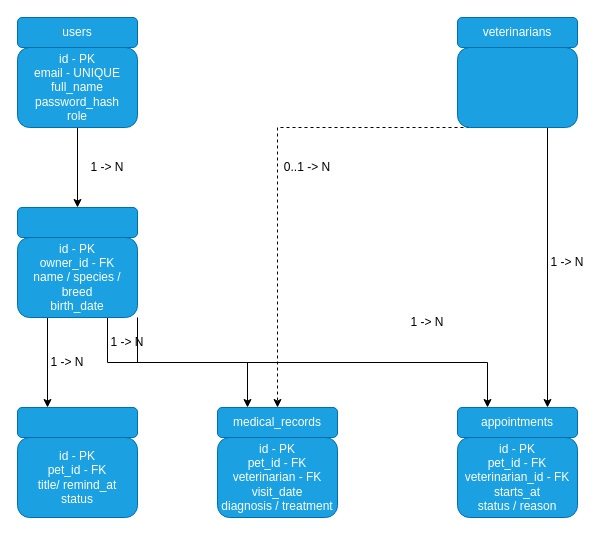
This 615x535 diagram has some shape labels left out. Here are the shapes that lost their labels. From the top down, the centre of each, then its label:
At point (517, 87): "id - PK full_name specialization is_active".
At point (77, 222): "pets".
At point (77, 422): "reminders".
